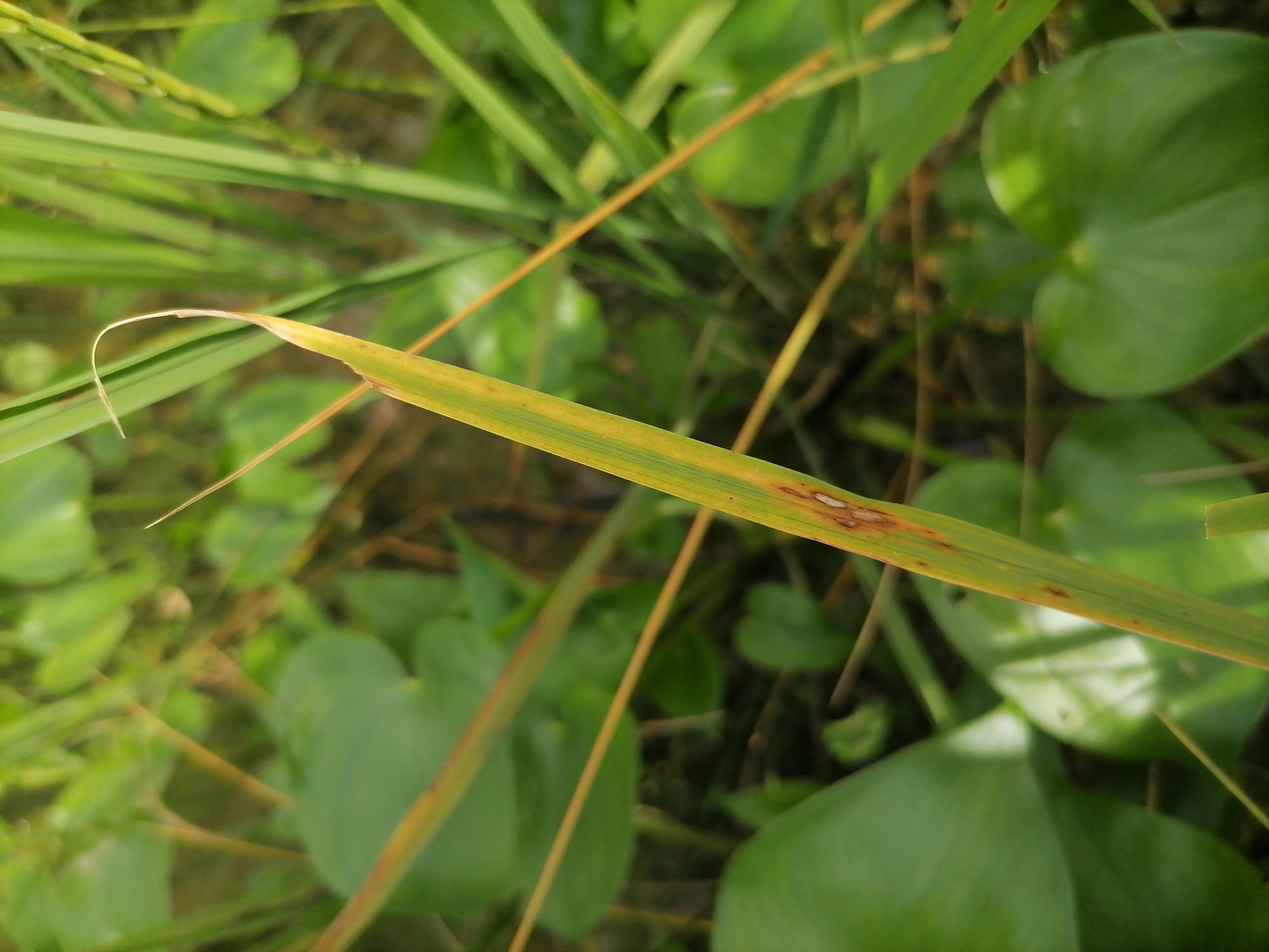Brown spot: (565, 633, 599, 682), (577, 608, 615, 635), (605, 580, 628, 605)
